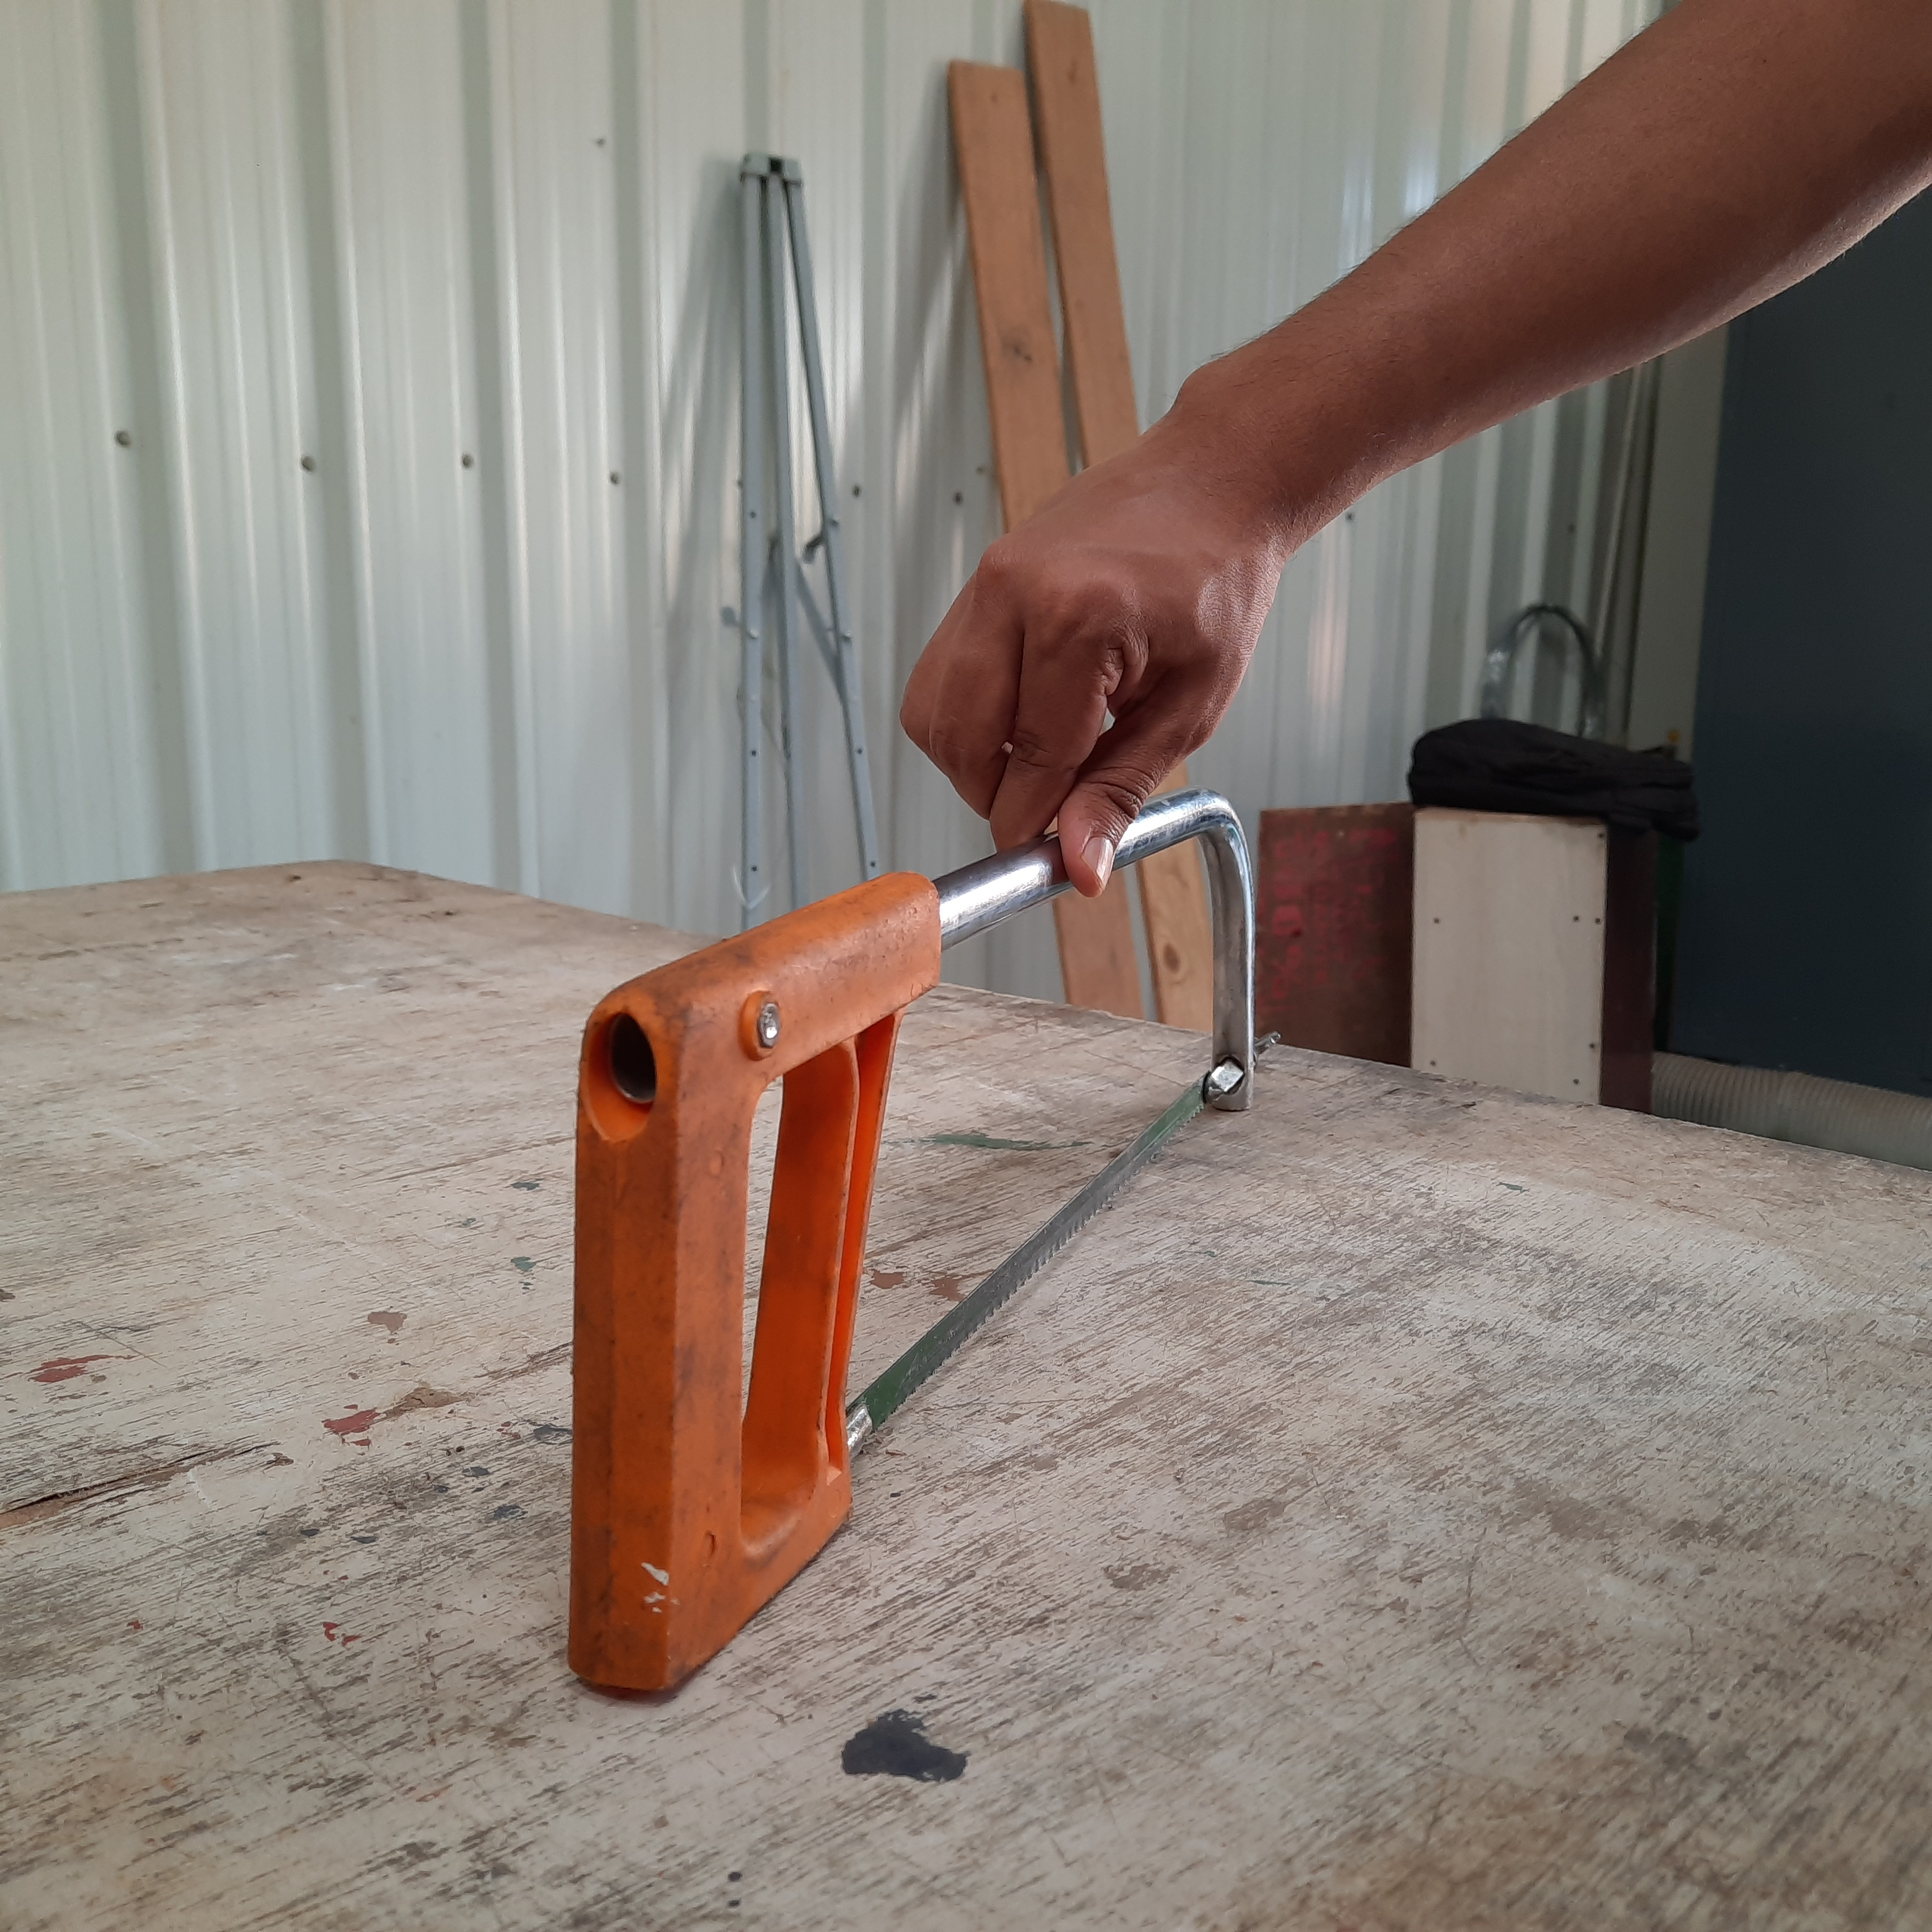Hexaframe: (522, 778, 1292, 1702)
